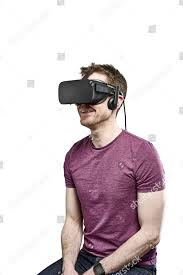oculus: (56, 78, 113, 109)
